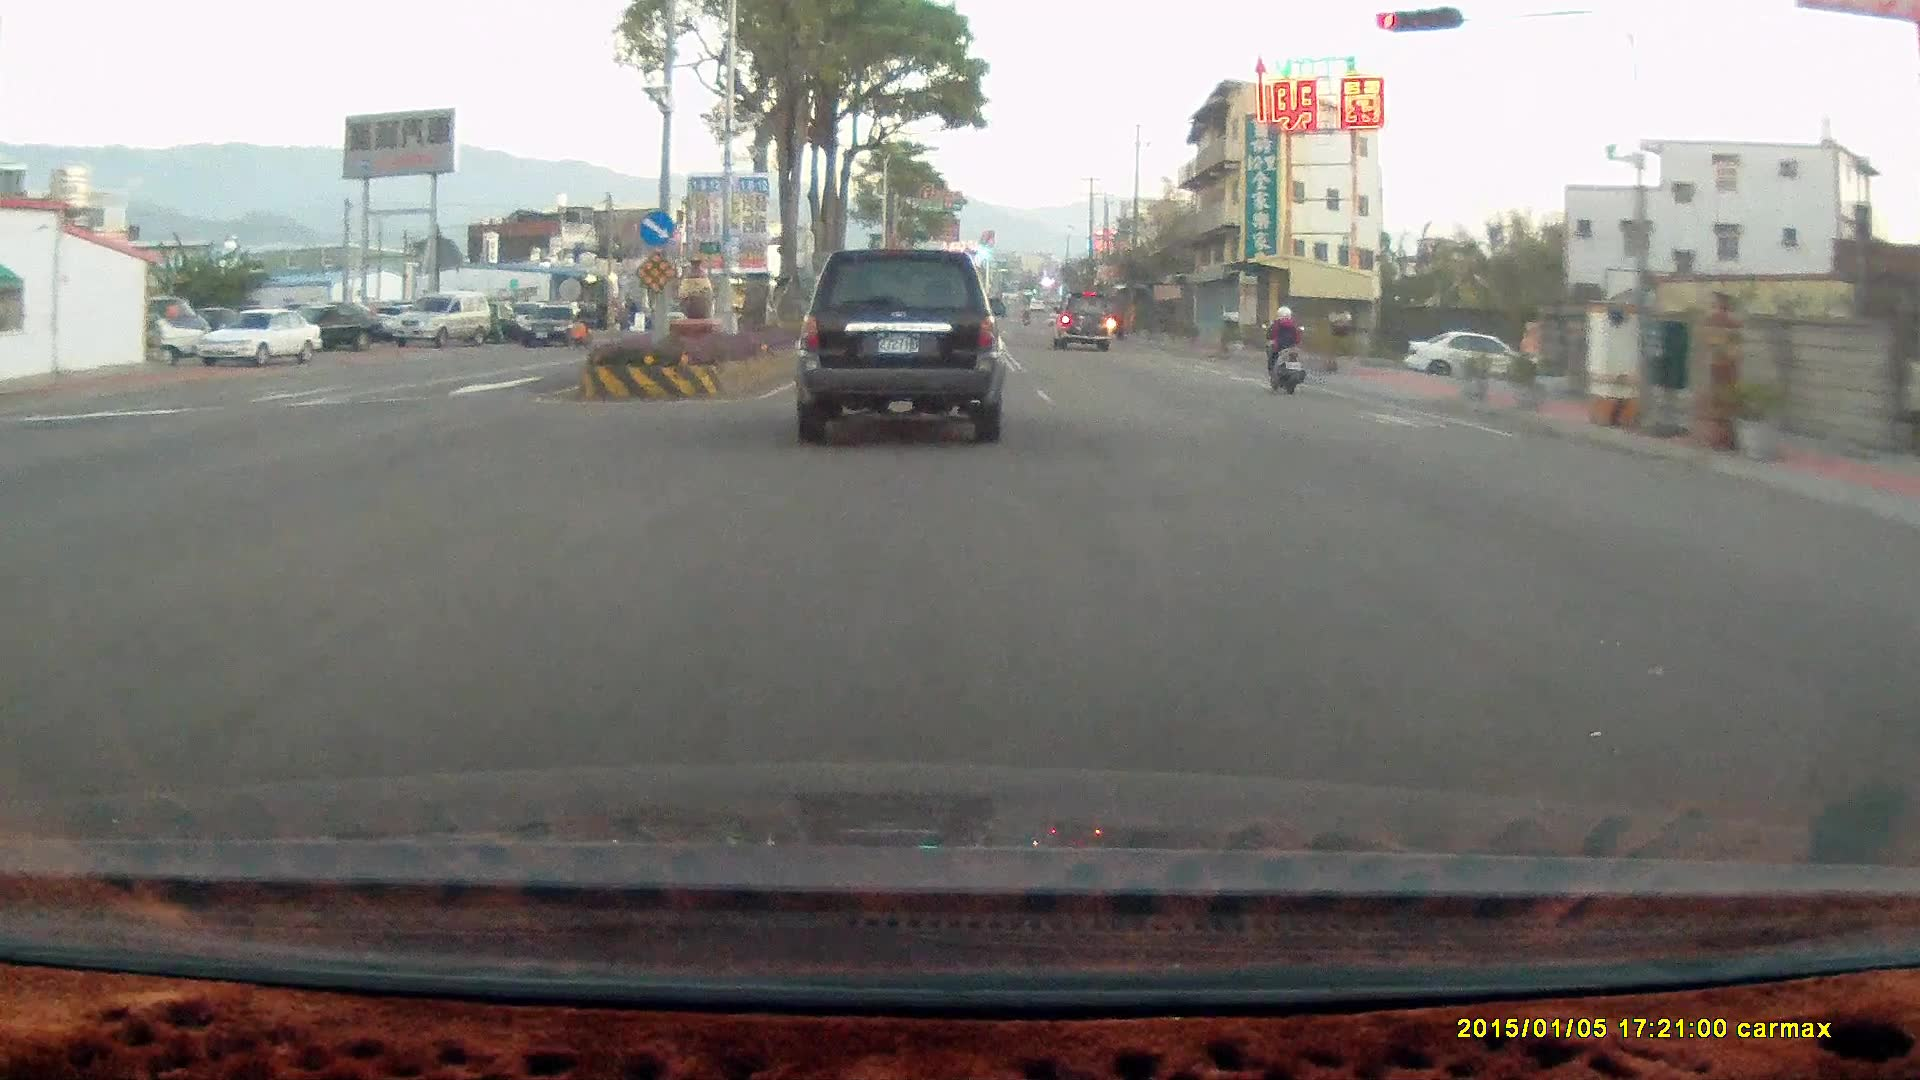rider: (1252, 298, 1316, 402), (1255, 301, 1301, 394), (564, 294, 592, 347)
vehicle: (789, 247, 1010, 449), (788, 248, 1006, 444), (194, 305, 320, 368), (203, 309, 325, 372), (1409, 334, 1546, 389), (1402, 330, 1538, 384), (390, 290, 493, 347), (389, 290, 491, 346), (290, 301, 392, 348), (300, 302, 394, 349), (1050, 290, 1113, 349), (1056, 293, 1113, 356), (523, 305, 592, 353), (520, 303, 589, 346)
